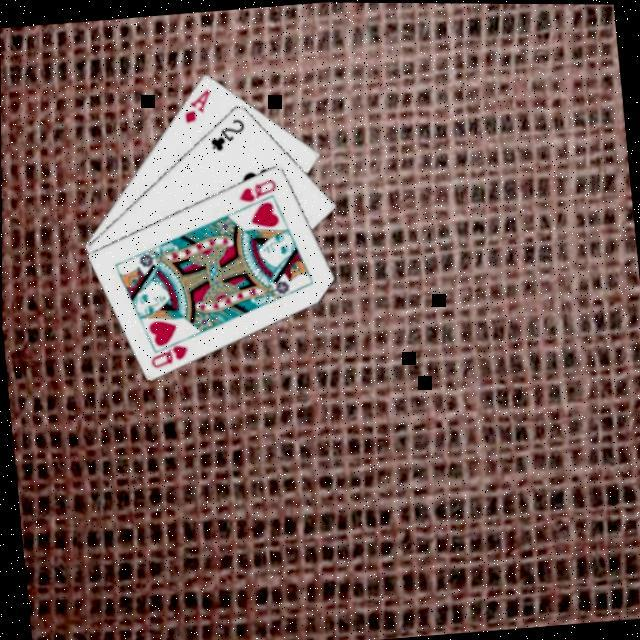2C: (207, 112, 250, 152)
AD: (180, 82, 217, 124)
QH: (147, 329, 196, 368), (235, 172, 281, 204)
